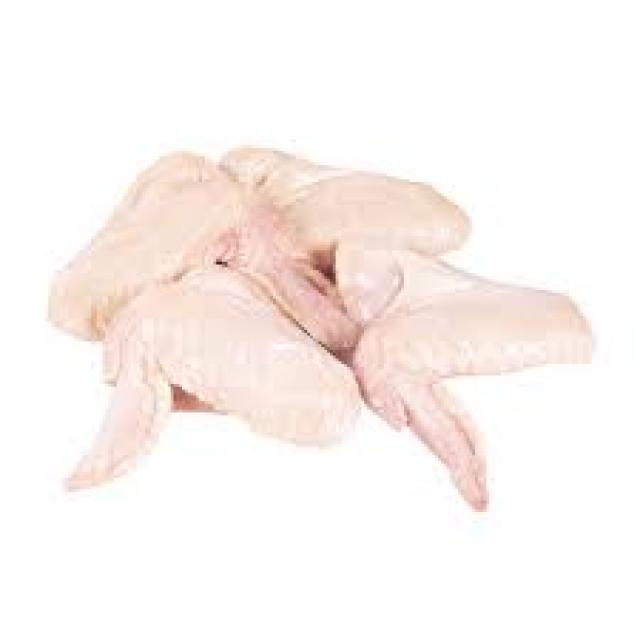chicken: (62, 270, 362, 492), (342, 244, 588, 514)
